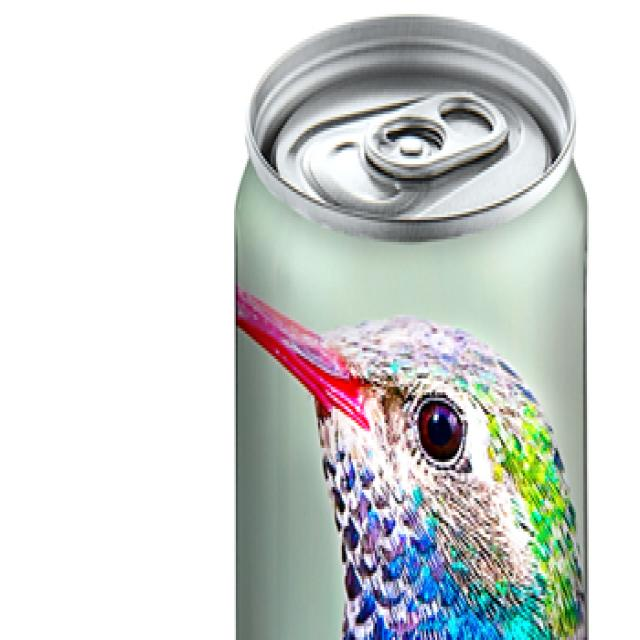non-organic waste: (227, 0, 615, 640)
